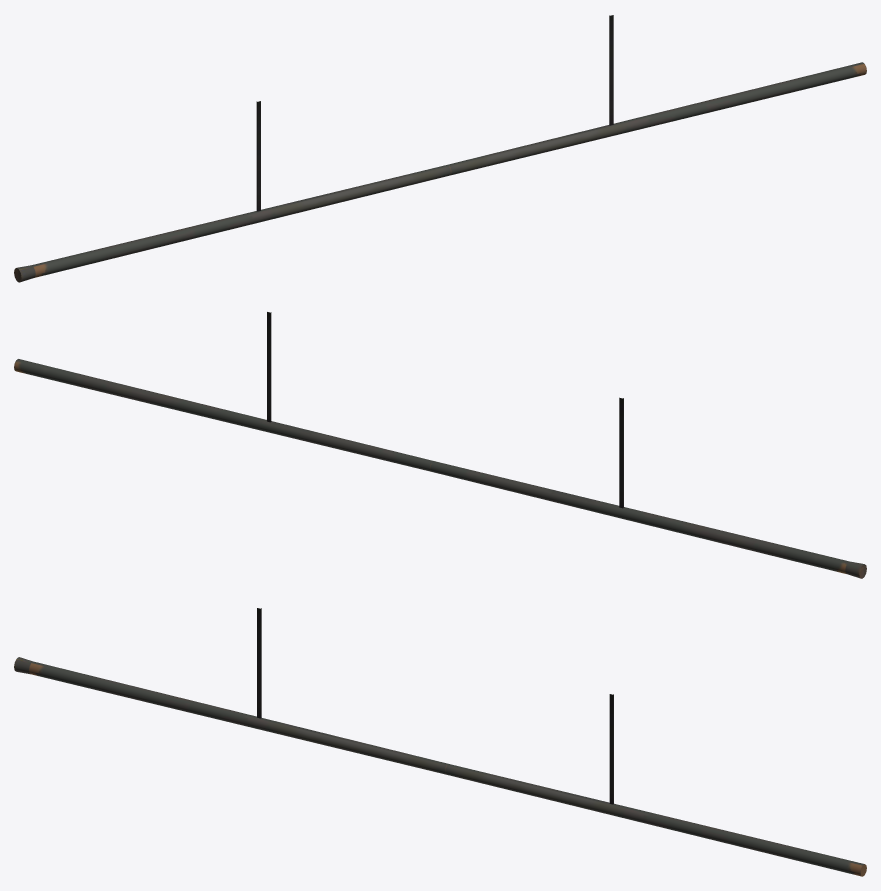
3 renders of one model, top to bottom at view 1: azimuth 30°, elevation 25°; view 2: azimuth 150°, elevation 25°; view 3: azimuth 330°, elevation 25°, orthographic.
Parts seen in each view (by area): view 1: body0_model0_lod0_mesh0; view 2: body0_model0_lod0_mesh0; view 3: body0_model0_lod0_mesh0.
Boxes of the visible parts, left/top/right/bottom form: body0_model0_lod0_mesh0: left=14, top=15, right=866, bottom=282; body0_model0_lod0_mesh0: left=14, top=312, right=866, bottom=578; body0_model0_lod0_mesh0: left=14, top=608, right=866, bottom=876.
Bounding box in the file's own units: 128 × 17.59 × 2.
Materials: 1 (1 with a texture image).
